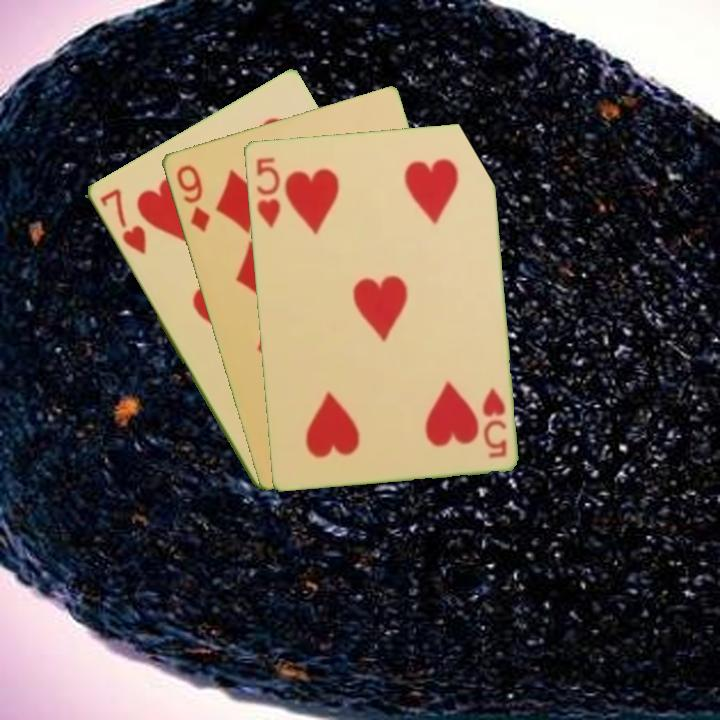5h: (252, 153, 283, 231), (478, 384, 509, 461)
7h: (95, 185, 149, 257)
9d: (172, 161, 213, 235)
